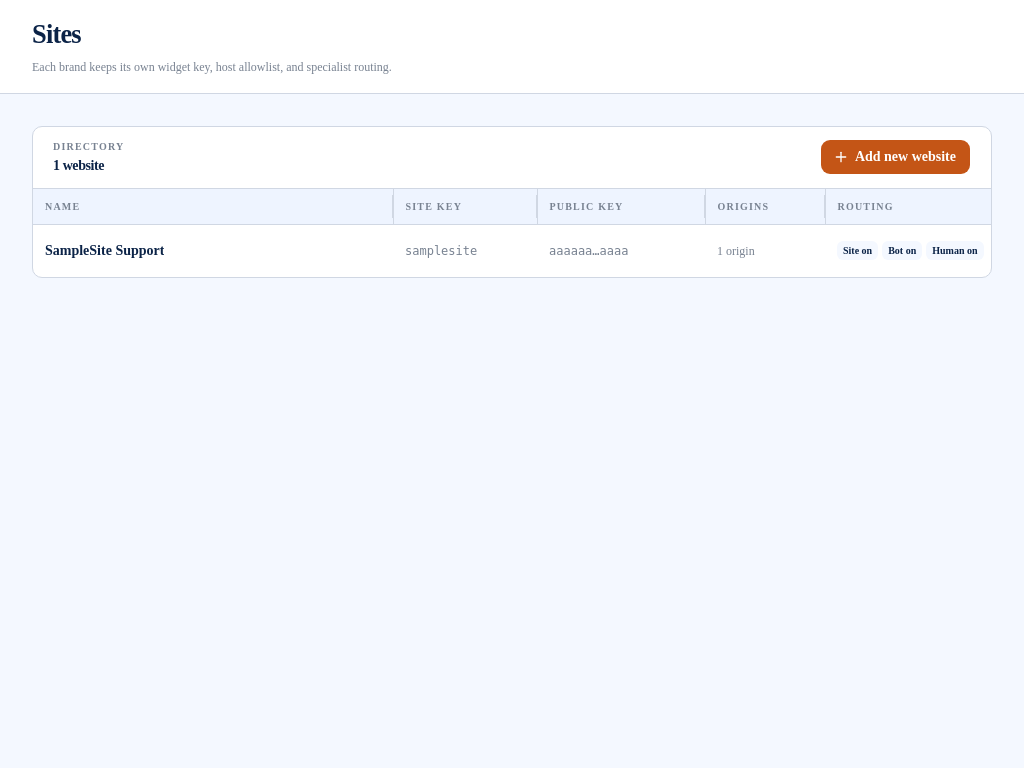
Test: sites add website form › add website shows inline errors when required fields are empty
Expected: the button "SampleSite Support" is shown, x1=45 y1=241 x2=164 y2=261
Click the button "Add new website". click: (895, 158)
box: x1=820 y1=140 x2=971 y2=176
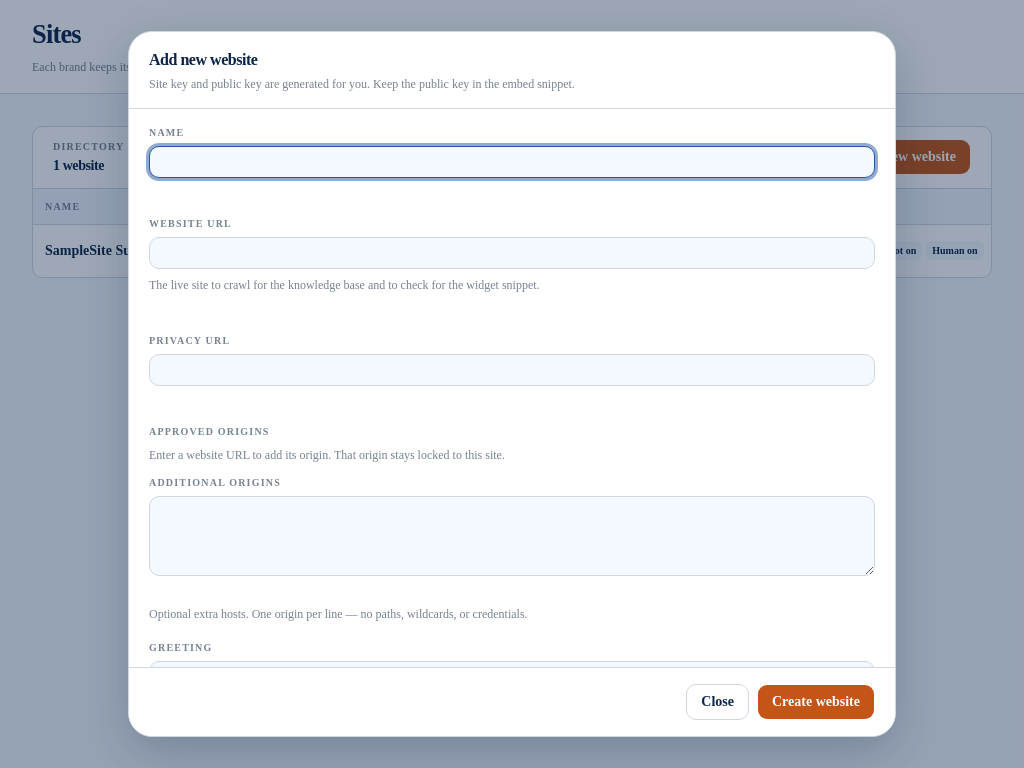
Click the button "Create website". click: (816, 702)
box: x1=757 y1=684 x2=875 y2=720
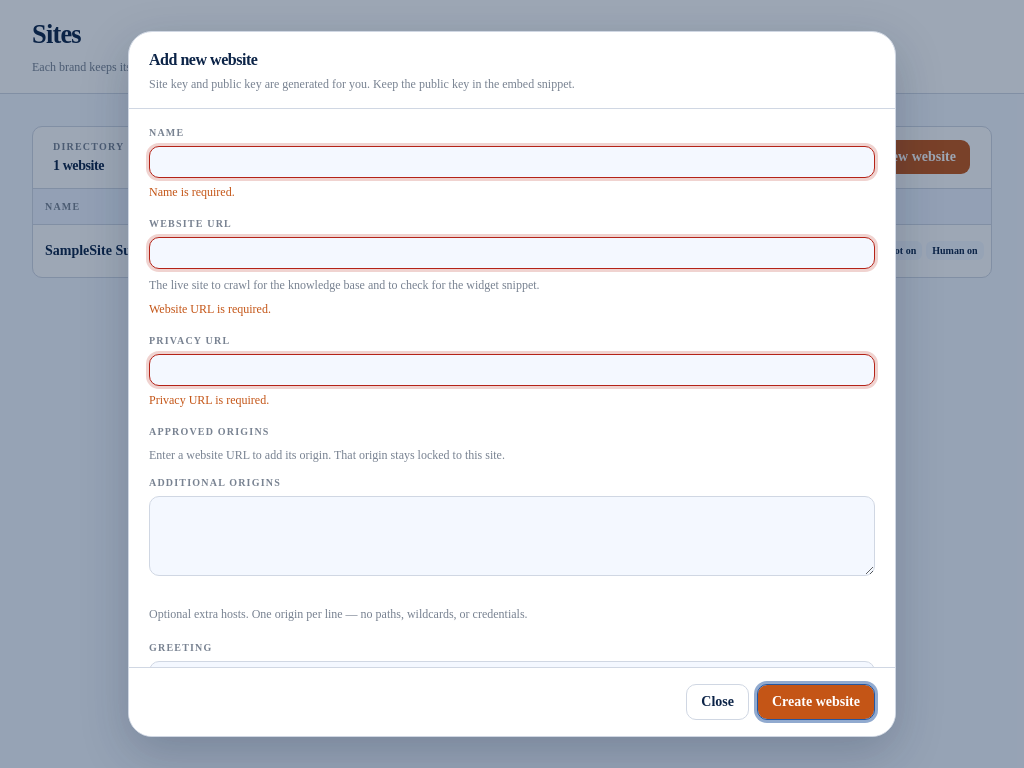
Expected: the text "Name is required." is shown, x1=149 y1=185 x2=235 y2=199
Expected: the text "Privacy URL is required." is shown, x1=149 y1=393 x2=269 y2=407
Expected: the text "Website URL is required." is shown, x1=149 y1=302 x2=271 y2=316
